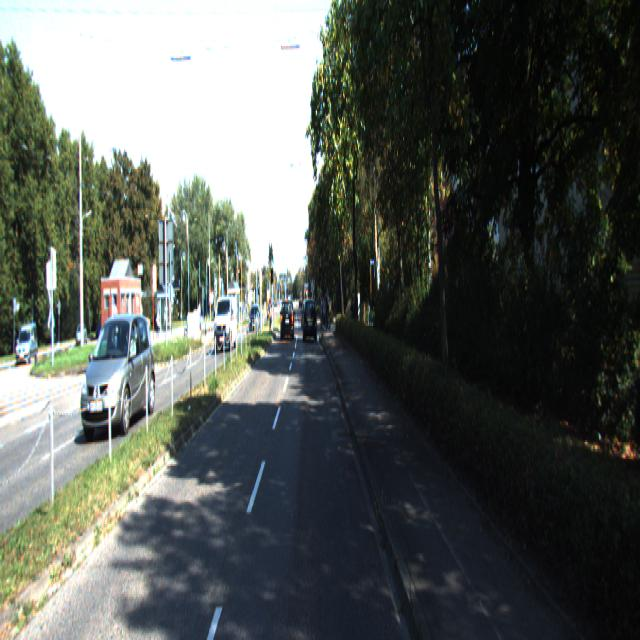Car: (80, 312, 157, 444), (214, 295, 238, 352), (304, 298, 318, 344), (281, 299, 295, 341)
